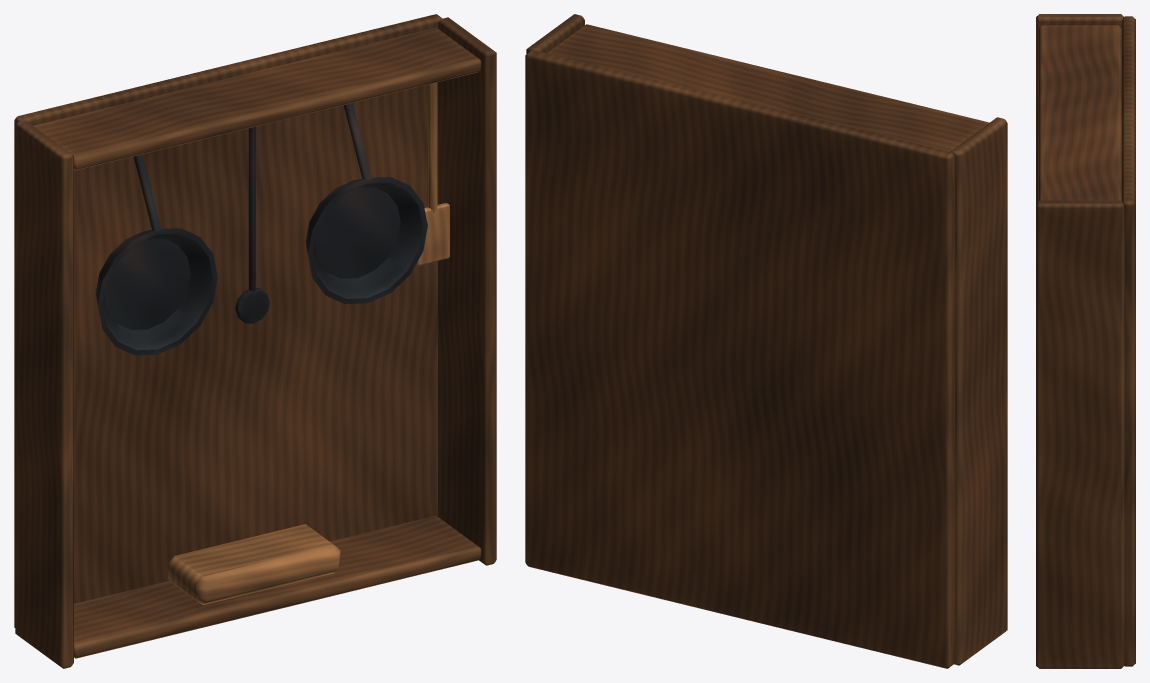
The model's file is Furn_Cook_PotRack.fbx.
3 views of the same model, side by side, from view 1: azimuth 30°, elevation 25°; view 2: azimuth 150°, elevation 25°; view 3: azimuth 270°, elevation 25° (orthographic). The views are drawn at different scales.
Parts seen in each view (by area): view 1: Furn_Cook_PotRack; view 2: Furn_Cook_PotRack; view 3: Furn_Cook_PotRack.
Part boxes in pixels (box(x1,y1,x2,y2)): Furn_Cook_PotRack: box(14, 14, 496, 668); Furn_Cook_PotRack: box(525, 14, 1007, 668); Furn_Cook_PotRack: box(1036, 14, 1135, 668).
Bounding box in the file's own units: 1.6 × 1.8 × 0.35.
3 materials, 3 textured.
